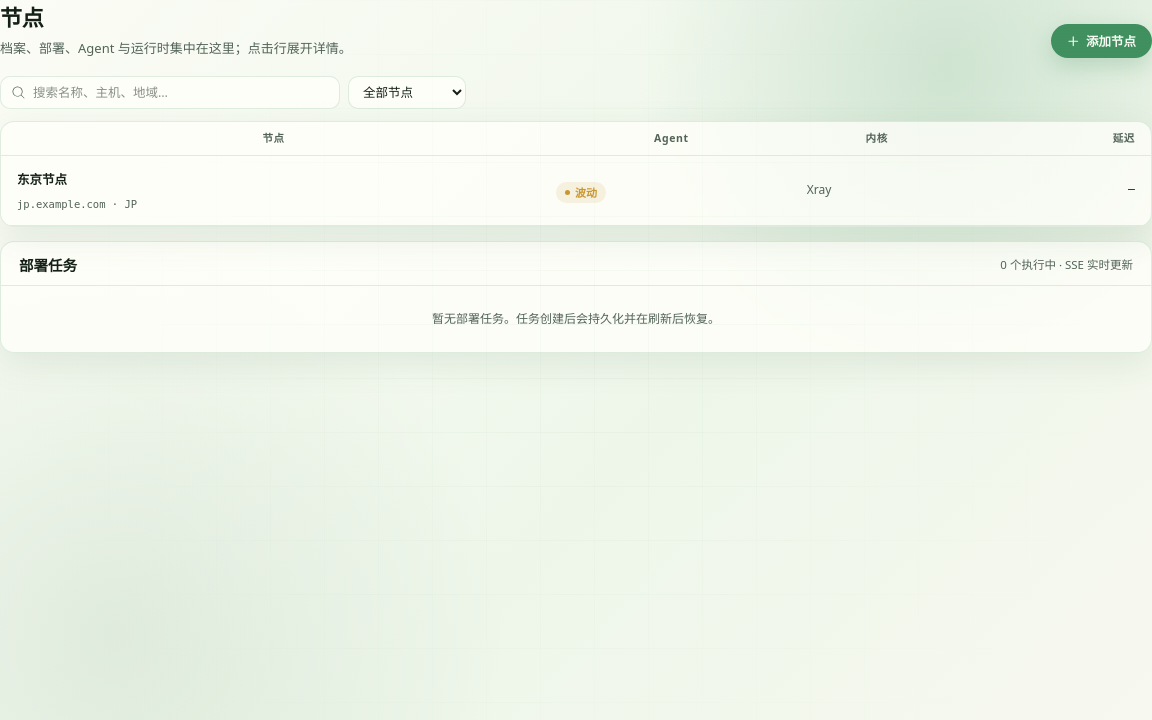
Scenario: Default local node display › shows the API fluctuating heartbeat state and preserves failure diagnostics
Expected: the text "波动" is shown, [556, 182, 606, 203]
Click the text "东京节点" at (576, 190), box [1, 155, 1151, 226]
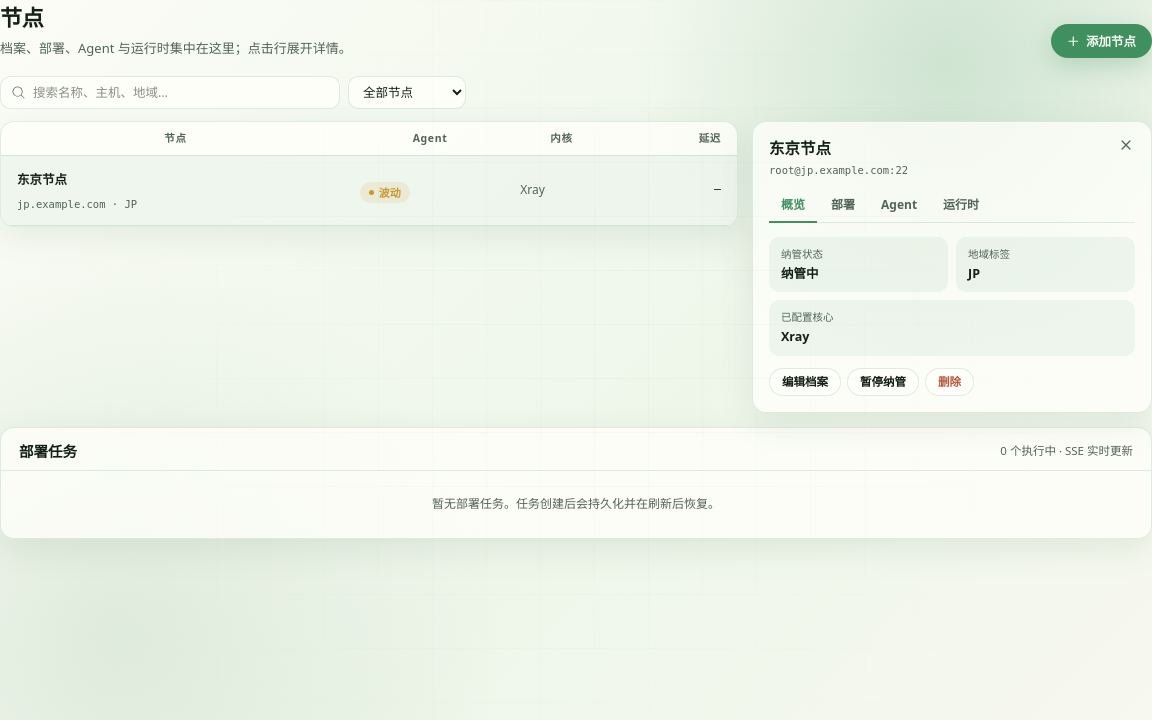
Click the button "Agent" at (899, 206), box [869, 190, 929, 222]
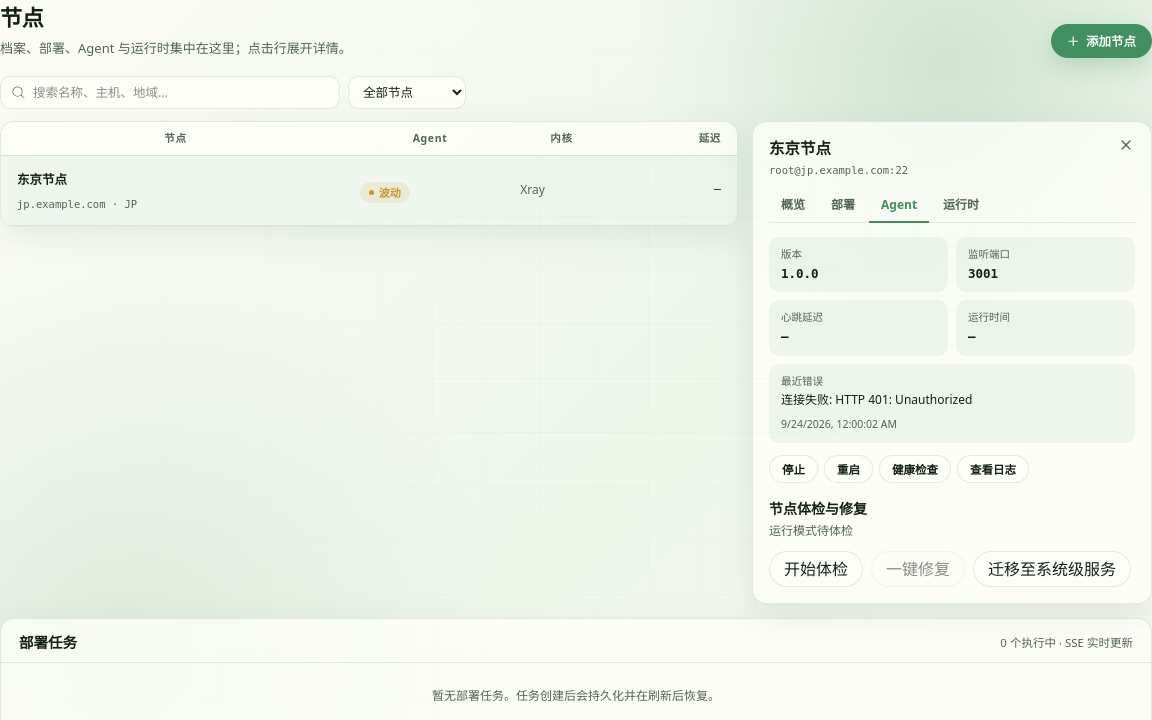
Result: the text "最近错误" is shown at [781, 374, 823, 388]
Result: the text "连接失败: HTTP 401: Unauthorized" is shown at [781, 391, 972, 408]
